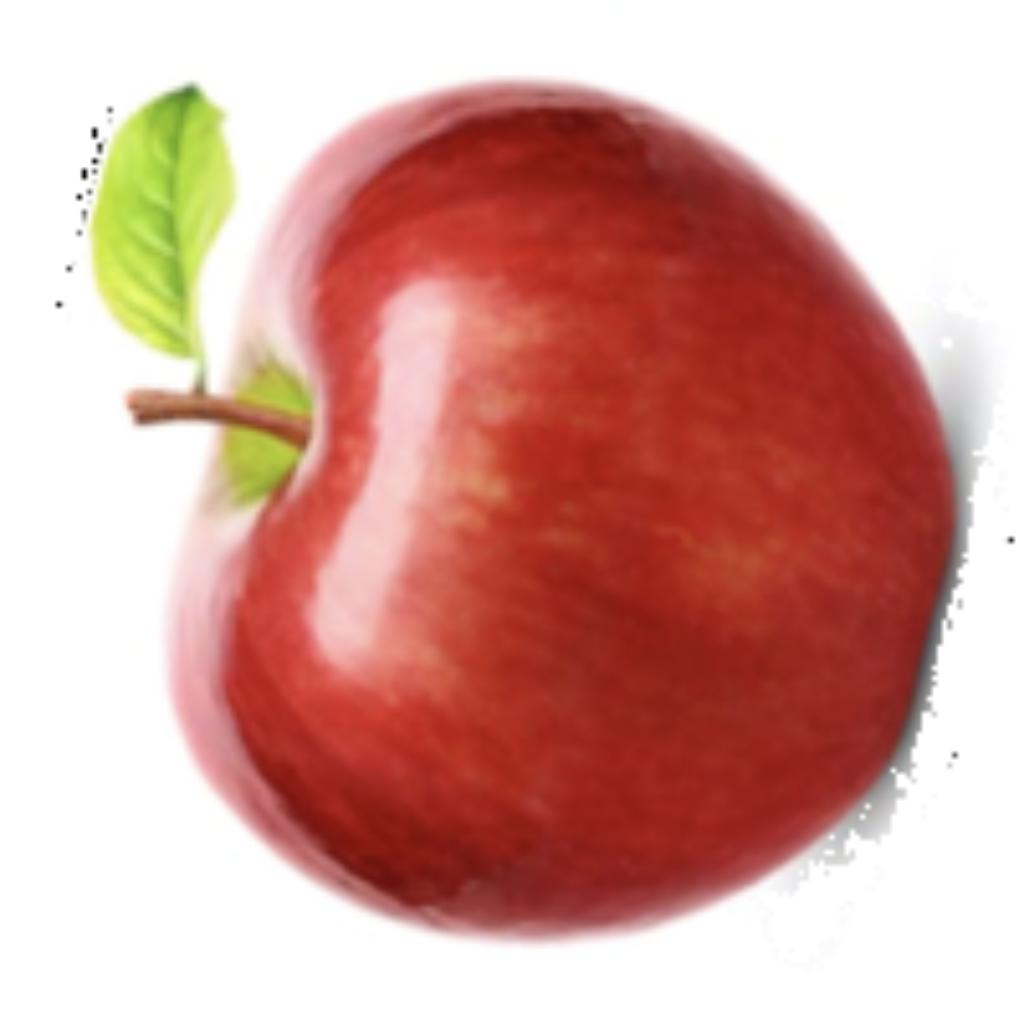apple: (61, 67, 973, 947)
